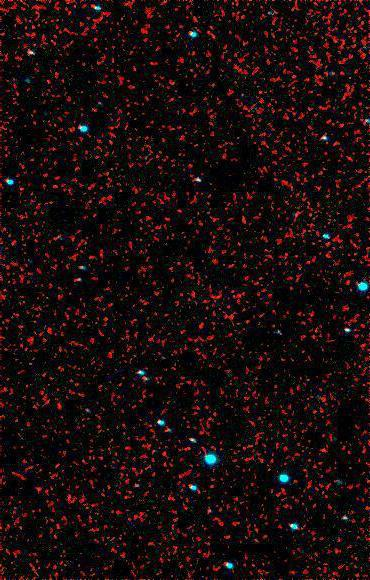star: (152, 439, 182, 469)
